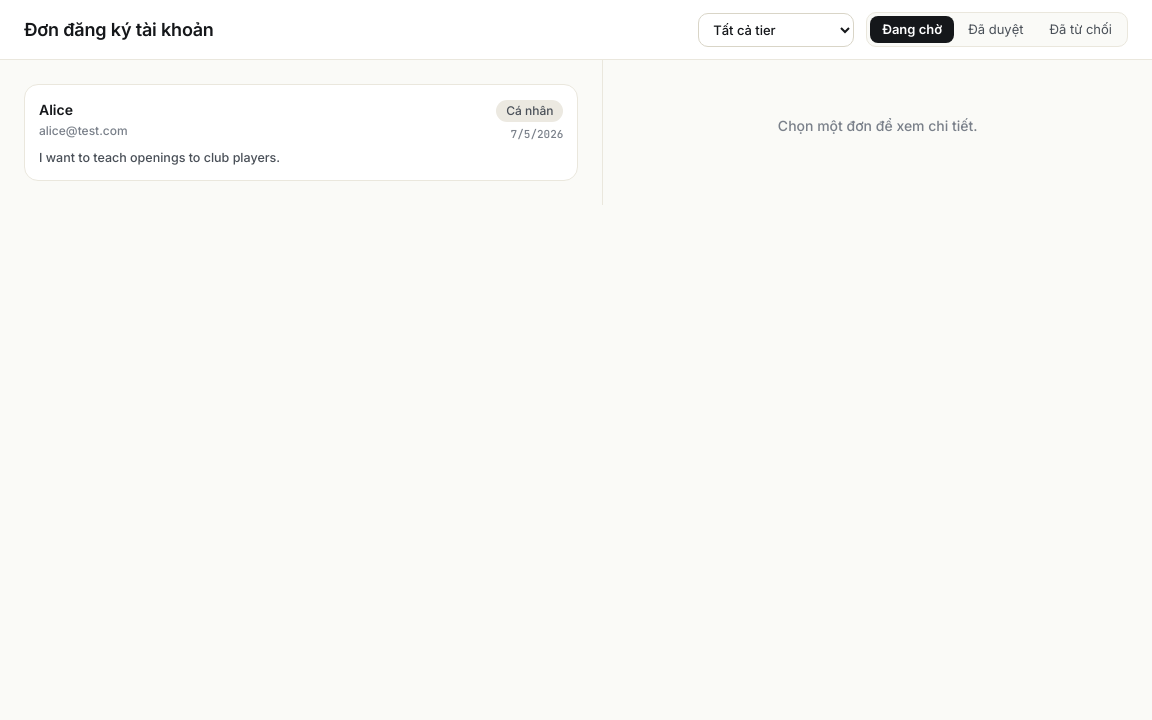
Scenario: AdminCreatorApplicationsPage › detail pane › shows rejection reason on rejected applications
This screenshot has width=1152, height=720.
Click the button with test id "application-row-app-1" at (56,110), box [24,84,578,181]
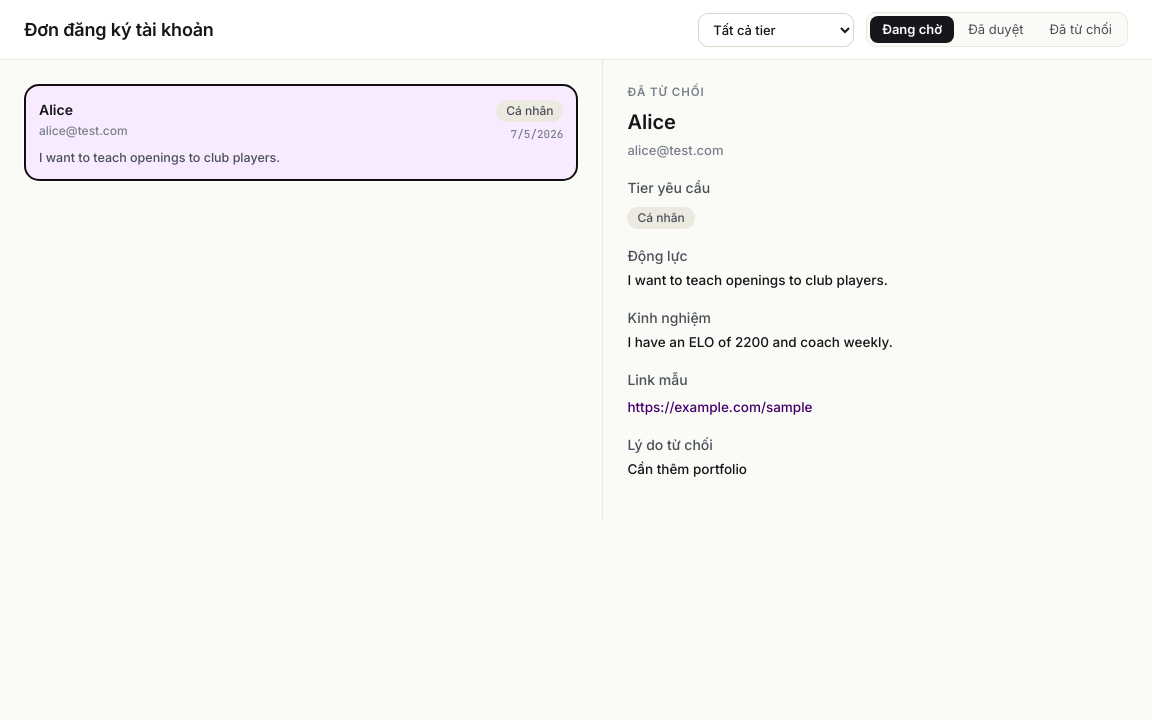
Check: the element with test id "application-detail" is shown, box [627,85,893,477]
Check: the text "Cần thêm portfolio" is shown, box [627,461,747,477]
